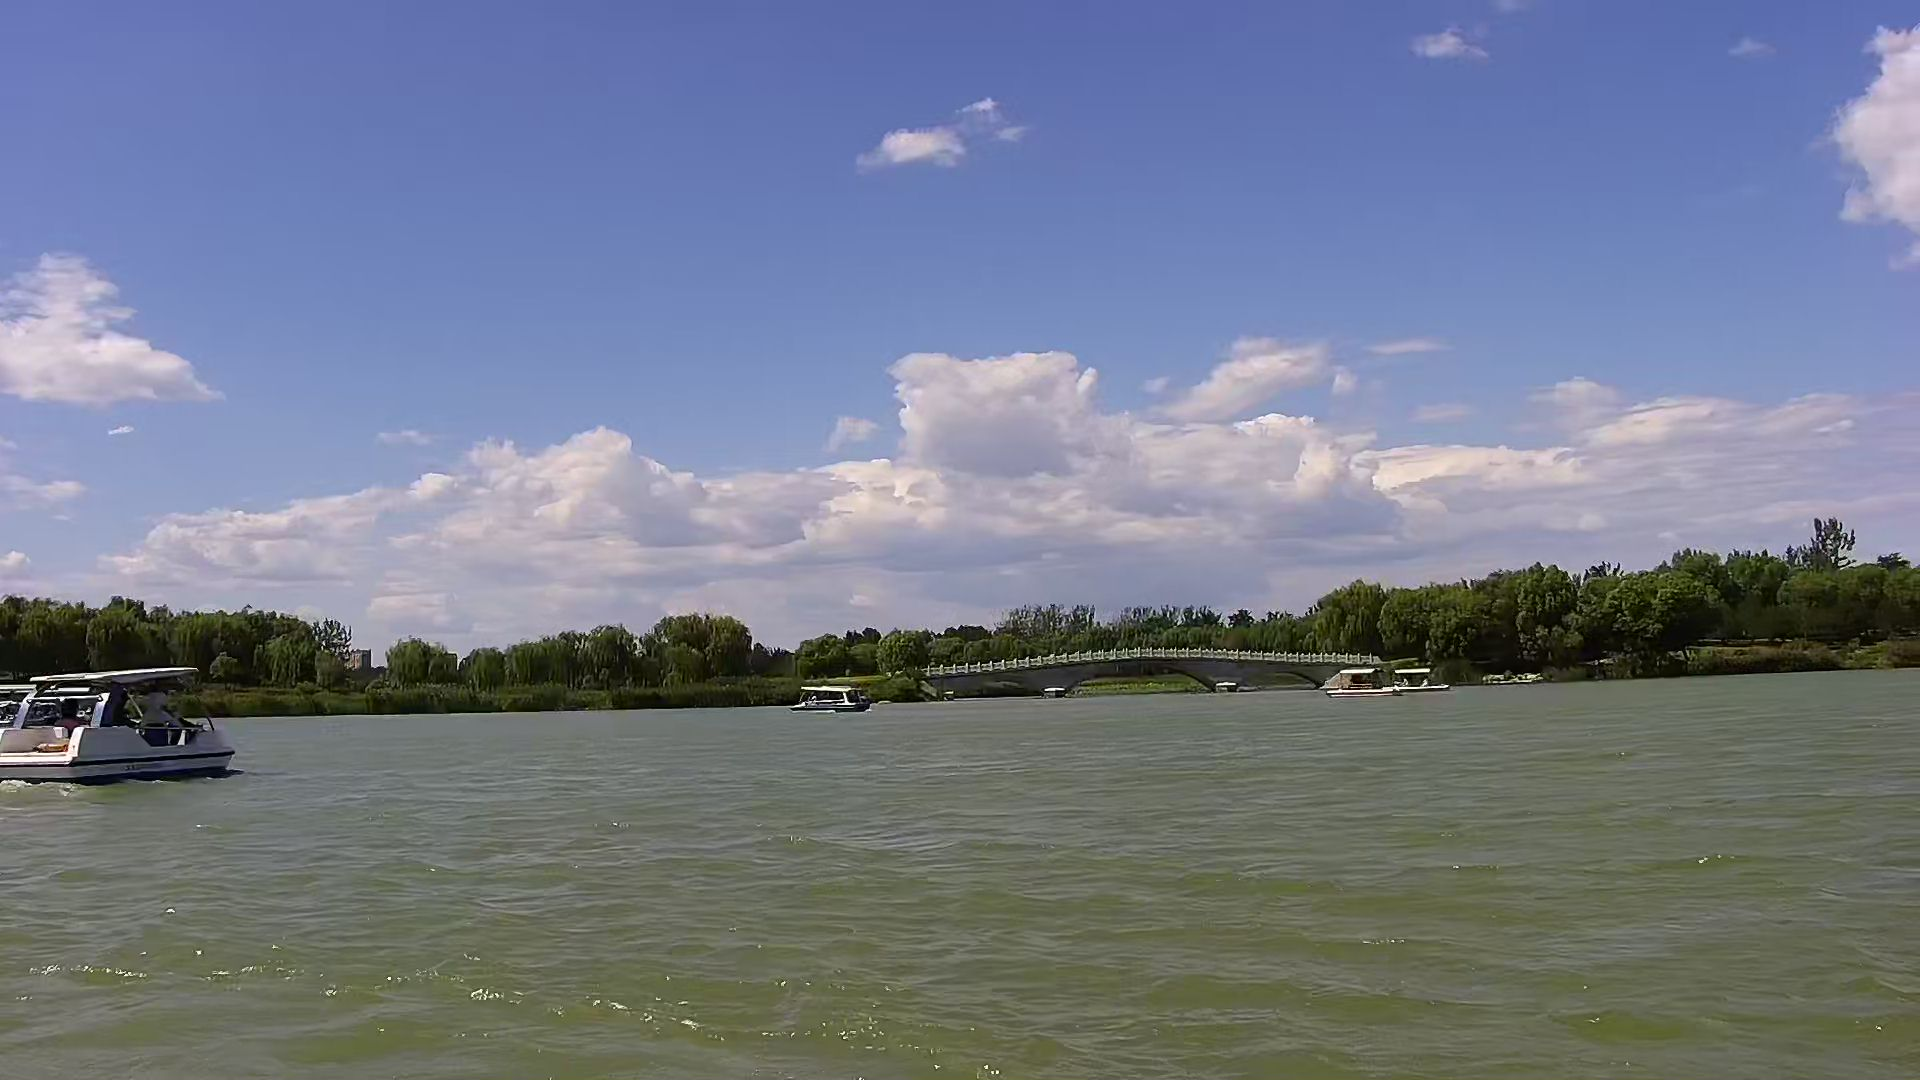boat: (5, 667, 236, 773), (1321, 661, 1396, 705), (789, 683, 880, 717), (1390, 649, 1456, 695)
bridge: (927, 636, 1319, 702)
